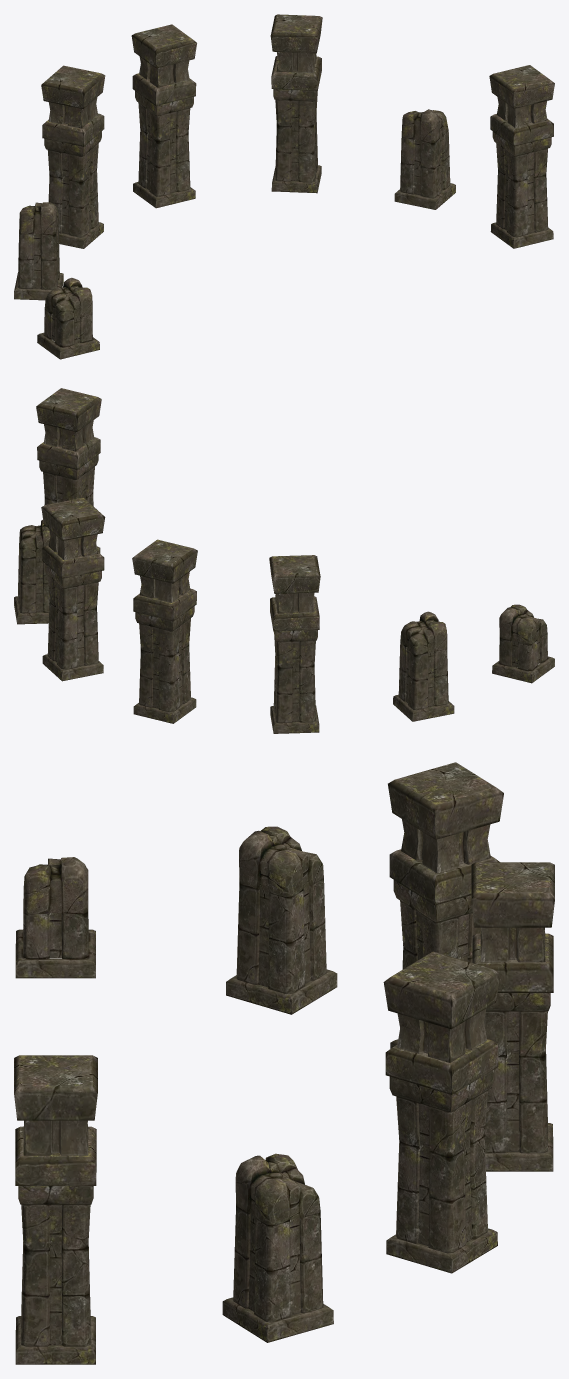
The model's file is Column_Alley_Rounded_08-transformed.glb.
3 views of the same model, one above another, from view 1: azimuth 30°, elevation 25°; view 2: azimuth 150°, elevation 25°; view 3: azimuth 270°, elevation 25° (orthographic). The views are drawn at different scales.
Parts seen in each view (by area): view 1: default; view 2: default; view 3: default.
Part boxes in pixels (<box>): default: <box>14,14,554,359</box>; default: <box>14,388,554,733</box>; default: <box>14,762,554,1364</box>.
Size of the model in its own units: 13.08 by 4.01 by 7.1.
Materials: 1 (1 with a texture image).
